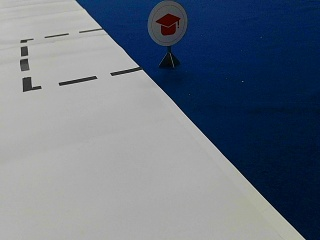school: (147, 1, 187, 46)
